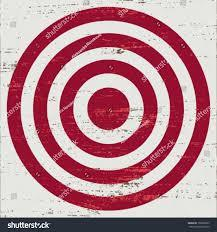target_red: (5, 5, 211, 211)
